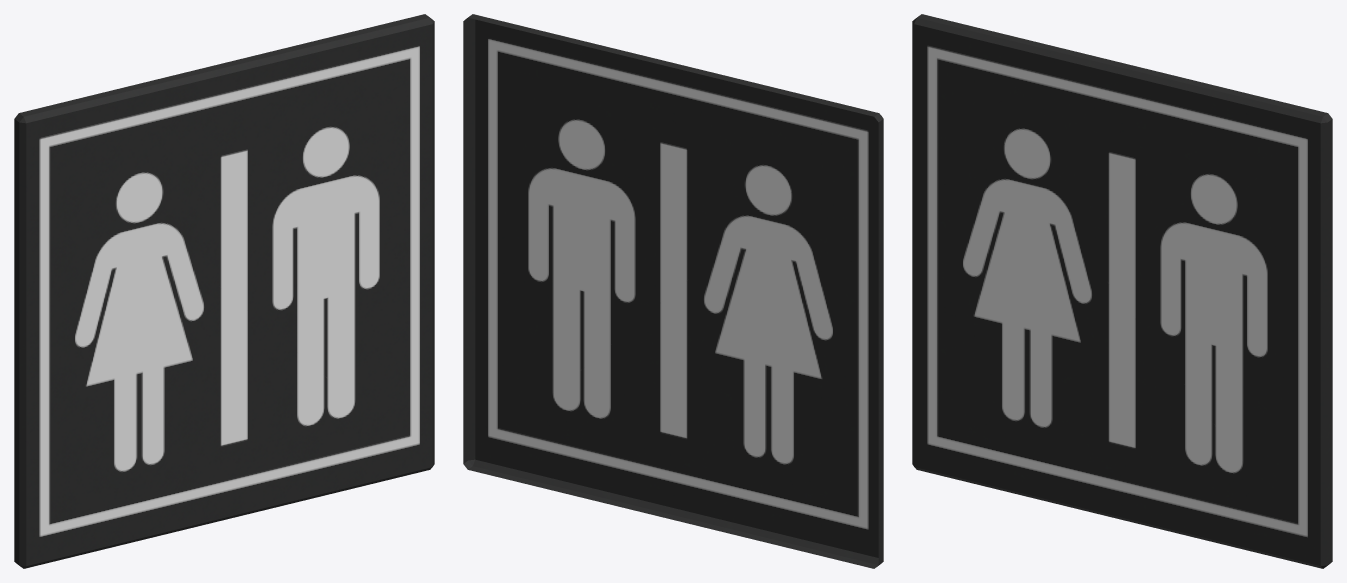
3 views of the same model, side by side, from view 1: azimuth 30°, elevation 25°; view 2: azimuth 150°, elevation 25°; view 3: azimuth 330°, elevation 25° (orthographic).
Parts seen in each view (by area): view 1: WC1; view 2: WC1; view 3: WC1.
Boxes of the visible parts, <box> form: WC1: <box>14,14,434,568</box>; WC1: <box>463,14,883,568</box>; WC1: <box>912,14,1332,568</box>.
Size of the model in its own units: 14.42 by 15 by 0.4533.
